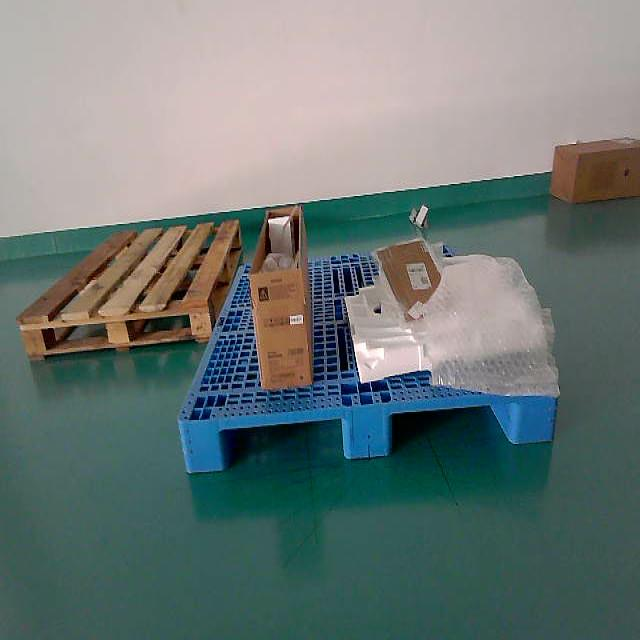euro: (18, 220, 238, 359)
